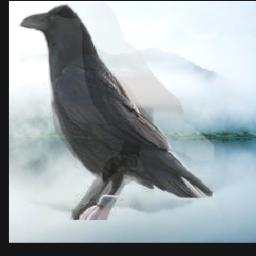Crow: (18, 3, 214, 221)
